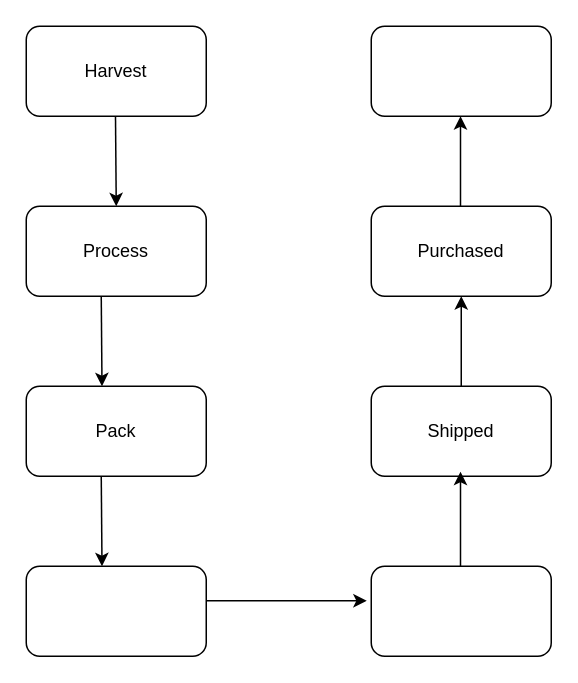
The diagram is 578 pixels wide and 683 high, and some of its shapes have lost their labels. The centre of each missing label's shape, as x and y in pixels:
ForSale: point (115, 610)
Recieved: point (460, 70)
Sold: point (460, 610)
